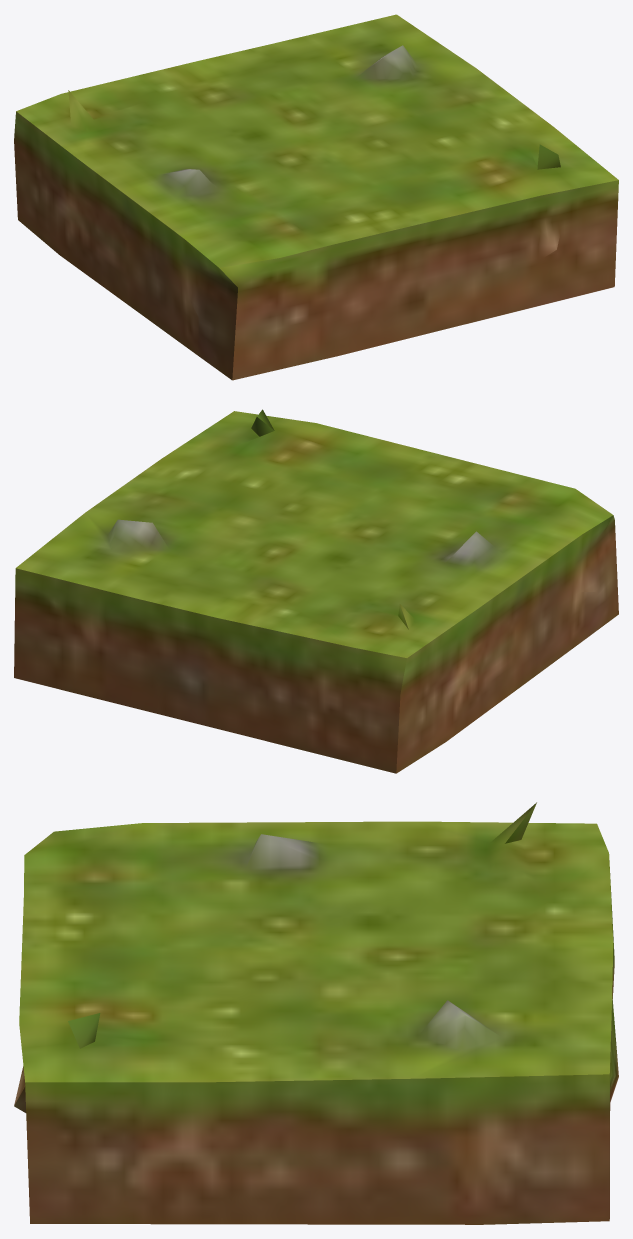
The model's file is b_racines_sol_2_lod1.glb.
3 renders of one model, top to bottom at view 1: azimuth 30°, elevation 25°; view 2: azimuth 150°, elevation 25°; view 3: azimuth 270°, elevation 25°, orthographic. The views are drawn at different scales.
Visible parts, largest first — view 1: geometry_0; view 2: geometry_0; view 3: geometry_0.
Boxes of the visible parts, x1,y1,x2,y2 form: geometry_0: [14, 14, 618, 380]; geometry_0: [14, 409, 618, 773]; geometry_0: [14, 802, 618, 1224].
Size of the model in its own units: 1 by 0.3516 by 1.
Materials: 1 (1 with a texture image).
